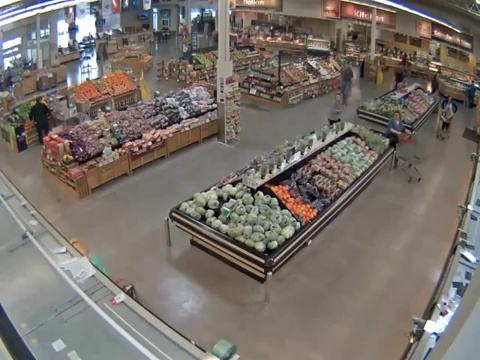face: (394, 111, 401, 120), (335, 94, 341, 101)
